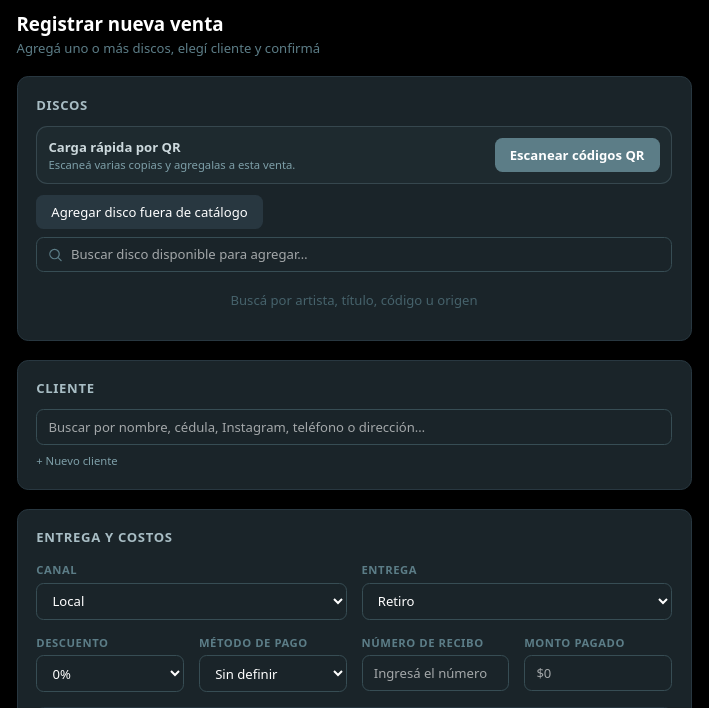
Scenario: NuevaVenta manual items › clears results and cancels work without falling back to the inventory endpoint
Type "radio" into the field with placeholder "Buscar disco disponible para agregar…" at [354, 254], box top-left (36, 237), bottom-right (672, 272)
Wait 300 ms
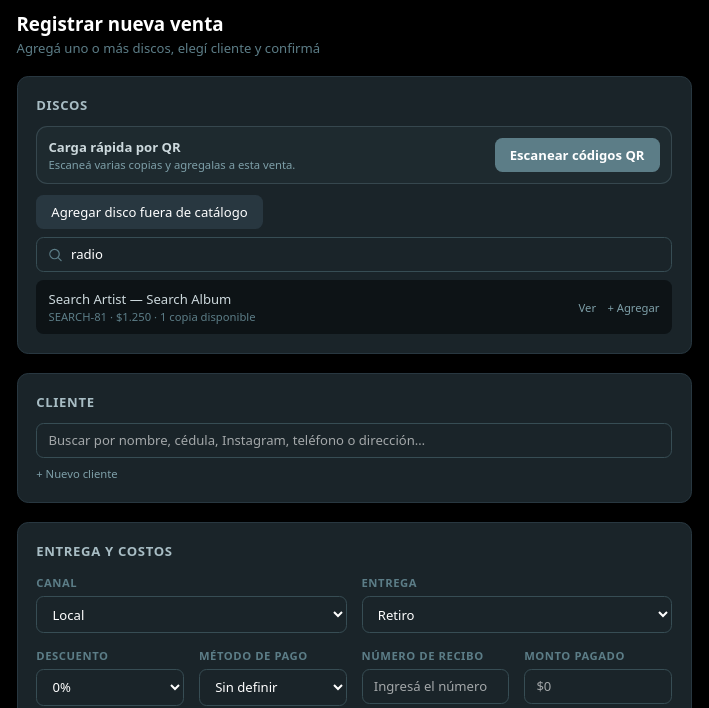
Expected: the text "Search Artist — Search Album" is shown, top-left (48, 290), bottom-right (231, 308)
Clear the field with placeholder "Buscar disco disponible para agregar…" at [354, 254], box top-left (36, 237), bottom-right (672, 272)
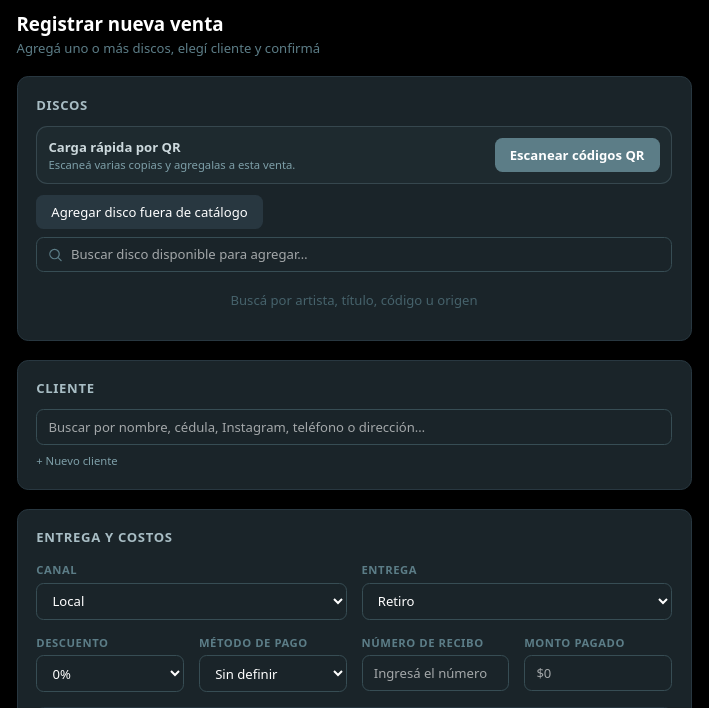
Expected: the text "Search Artist — Search Album" is gone
